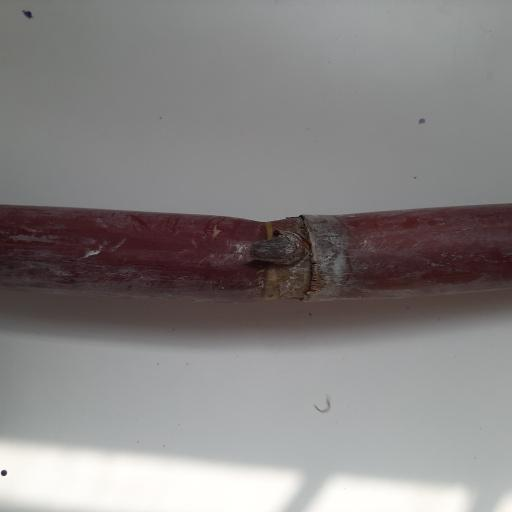Bud: (246, 230, 308, 266)
